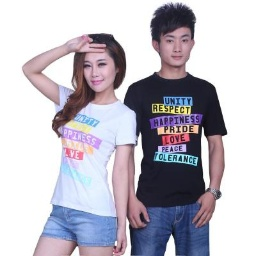face: (70, 32, 126, 104), (151, 2, 200, 75)
